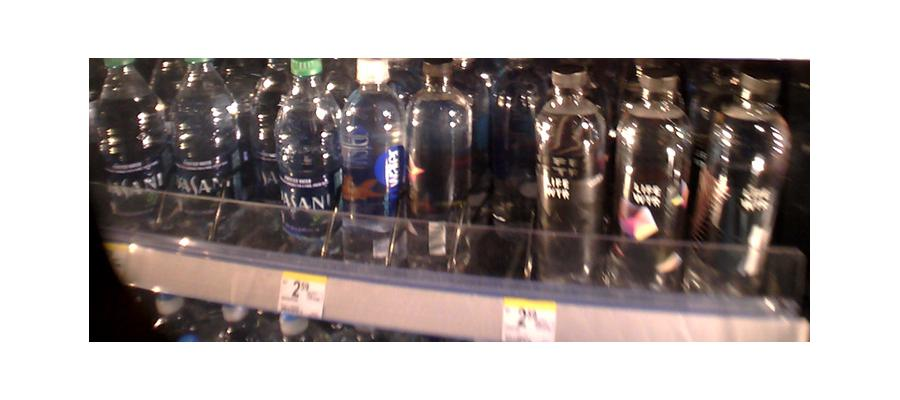bottle: (701, 77, 790, 299), (613, 69, 691, 292), (536, 68, 611, 283), (404, 62, 473, 267), (337, 65, 405, 261), (480, 58, 539, 276), (275, 57, 338, 254), (92, 56, 160, 228), (168, 56, 234, 229), (235, 60, 276, 218)
